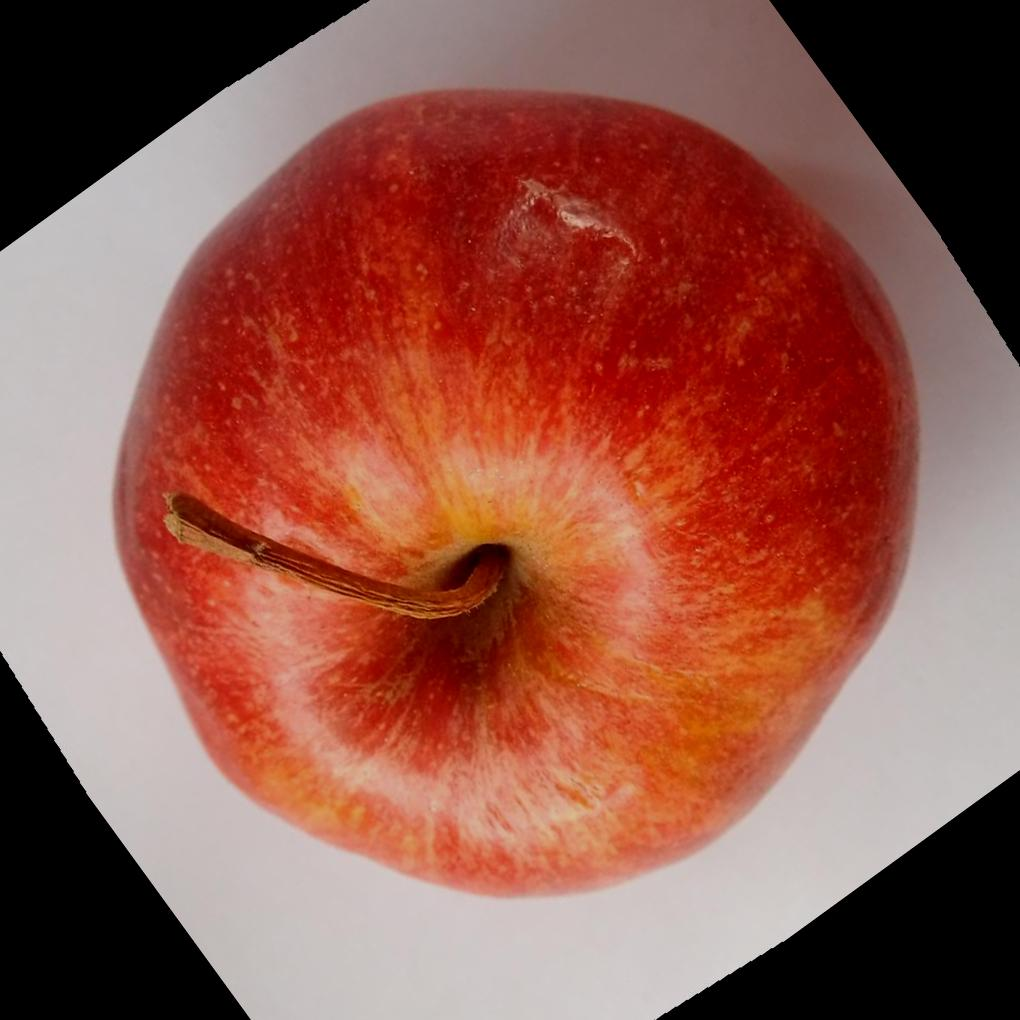FreshGuava: (109, 81, 920, 900)
